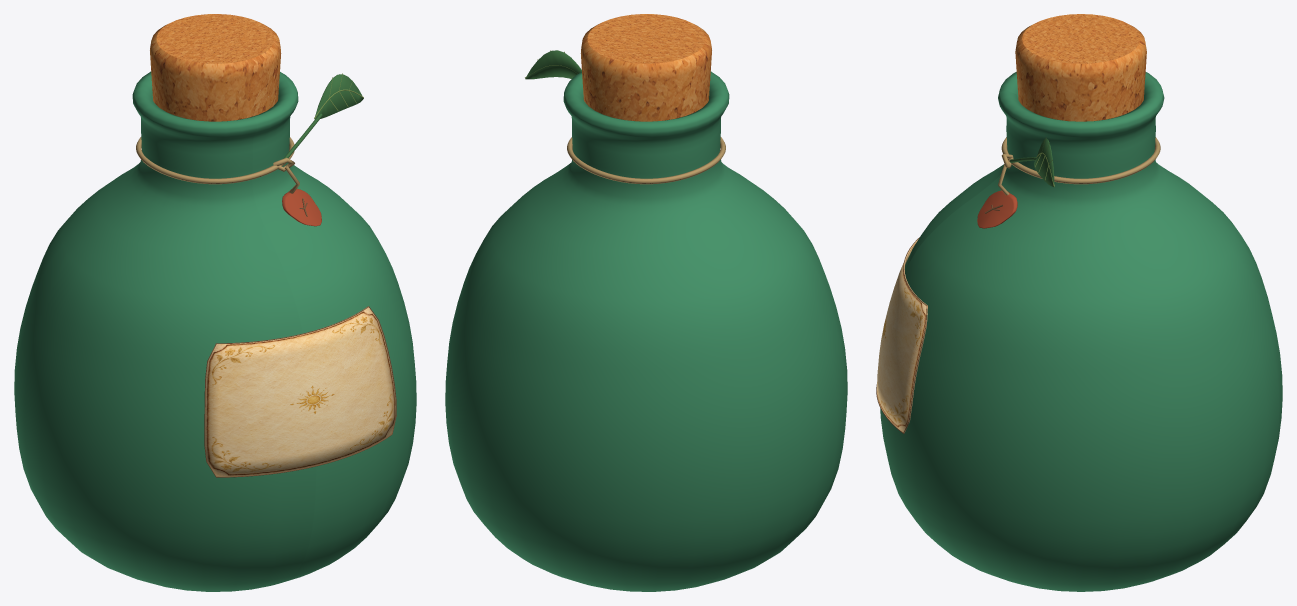
The model's file is potion-craft-v5.glb.
3 renders of one model, left to right at view 1: azimuth 30°, elevation 25°; view 2: azimuth 150°, elevation 25°; view 3: azimuth 270°, elevation 25°, orthographic.
Parts seen in each view (by area): view 1: potion-craft-v5; view 2: potion-craft-v5; view 3: potion-craft-v5.
Part boxes in pixels (x1,y1,x2,y2): potion-craft-v5: (14, 14, 416, 591); potion-craft-v5: (445, 14, 847, 591); potion-craft-v5: (876, 14, 1282, 591).
Size of the model in its own units: 0.5392 by 0.764 by 0.5437.
Materials: 8 (2 with a texture image).
